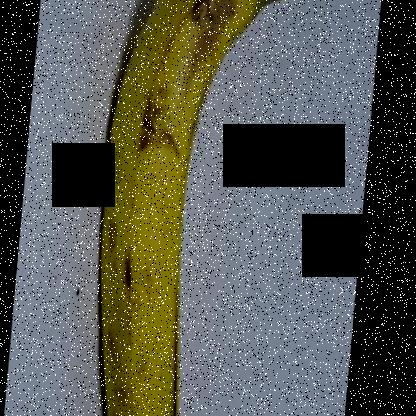ripe: (85, 1, 301, 416)
